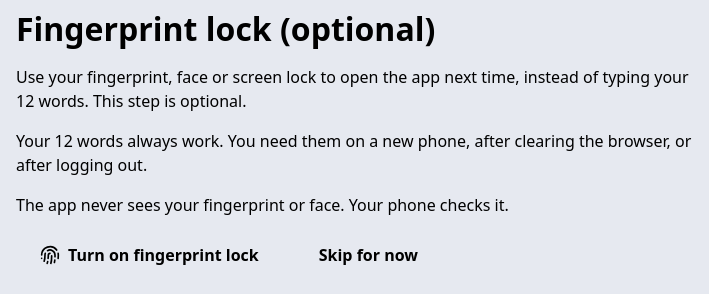
FingerprintScreen: turning on › gate level: says honestly that it protects the app screen, not the files
Click the button "Turn on fingerprint lock" at (149, 255), box [16, 233, 283, 277]
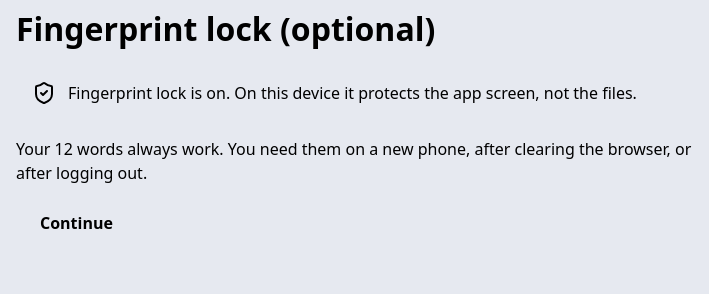
Result: the text "Fingerprint lock is on. On this device it protects the app screen, not the files." is shown at [68, 82, 637, 104]
